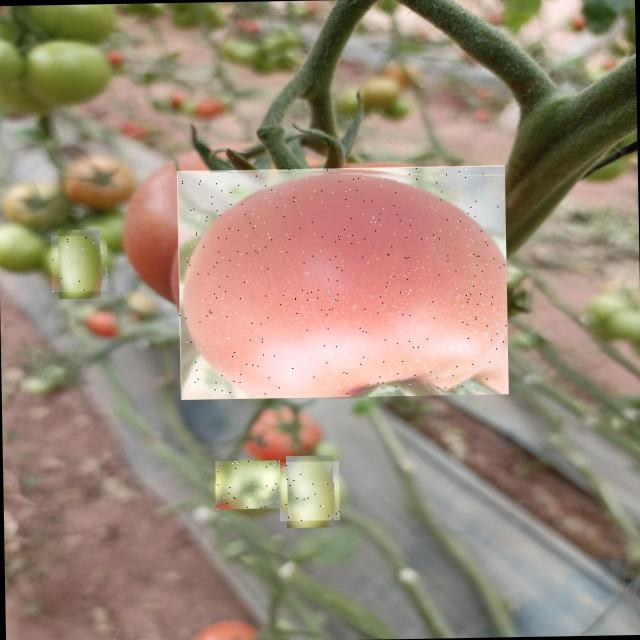Ripe Tomato: (176, 164, 508, 400)
Unripe Tomato: (279, 460, 340, 520), (51, 234, 108, 292), (214, 460, 280, 509)
